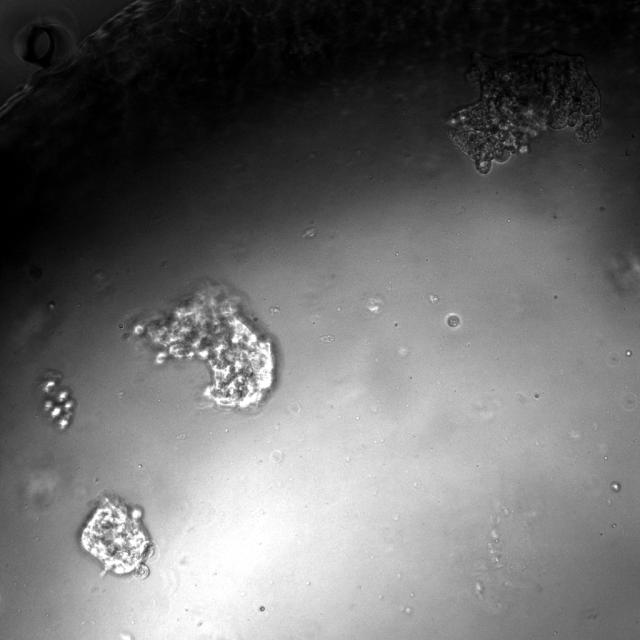organoid: (449, 53, 601, 173), (132, 286, 274, 409), (80, 494, 152, 577), (41, 372, 76, 430), (447, 315, 459, 328)
